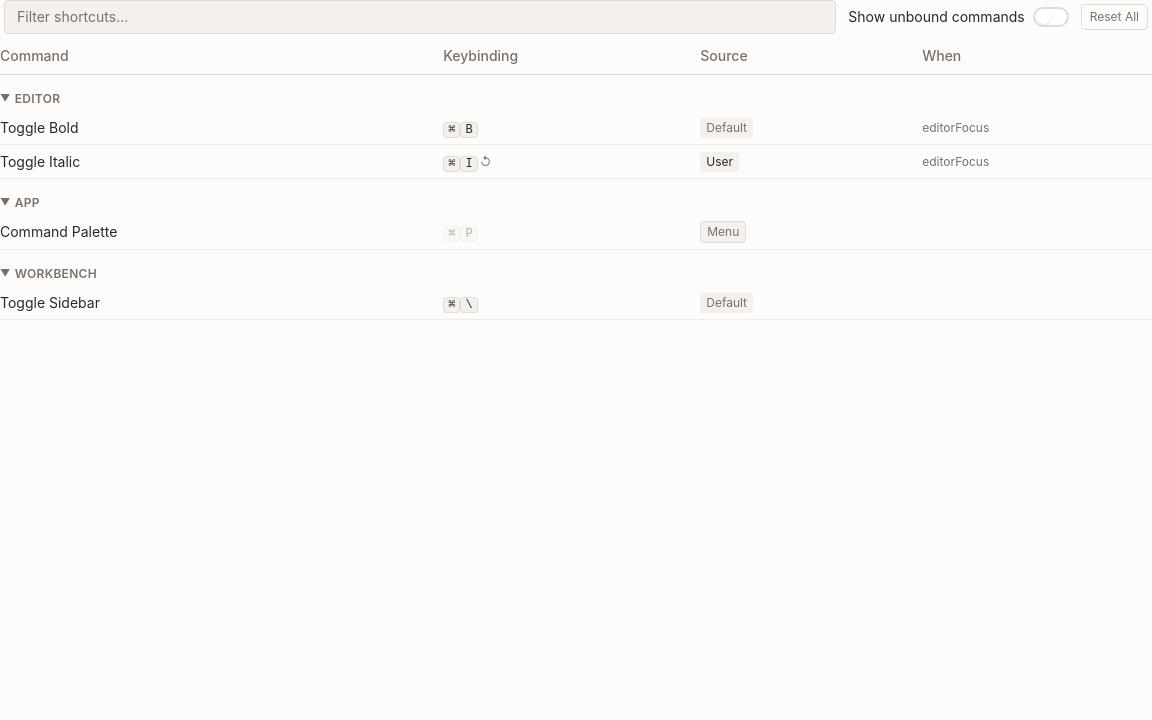
Scenario: KeyboardShortcutsPanel › Cancel dismisses dialog with no changes
Expected: the row "Toggle Italic ⌘I ↺ User editorFocus" is shown, [0,144,1151,178]
Click the element showing "⌘I". click: (460, 162)
box: [443,152,478,172]
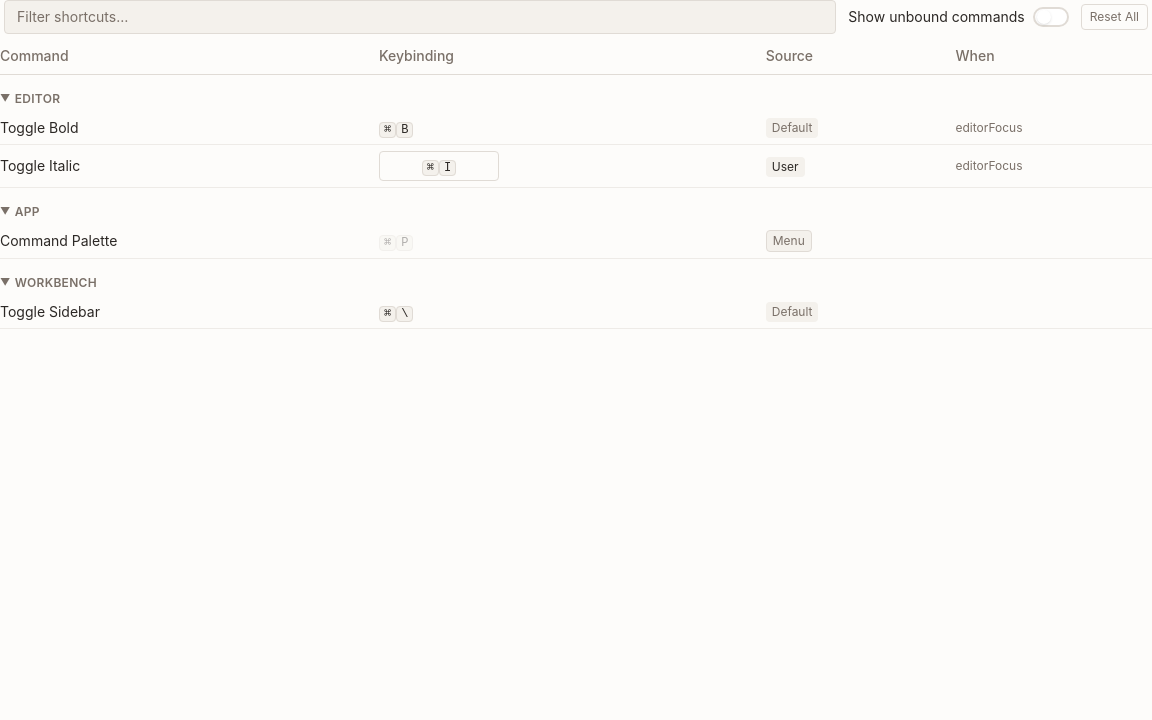
Click the element with test id "key-recorder". click: (439, 166)
box: [379,151,499,181]
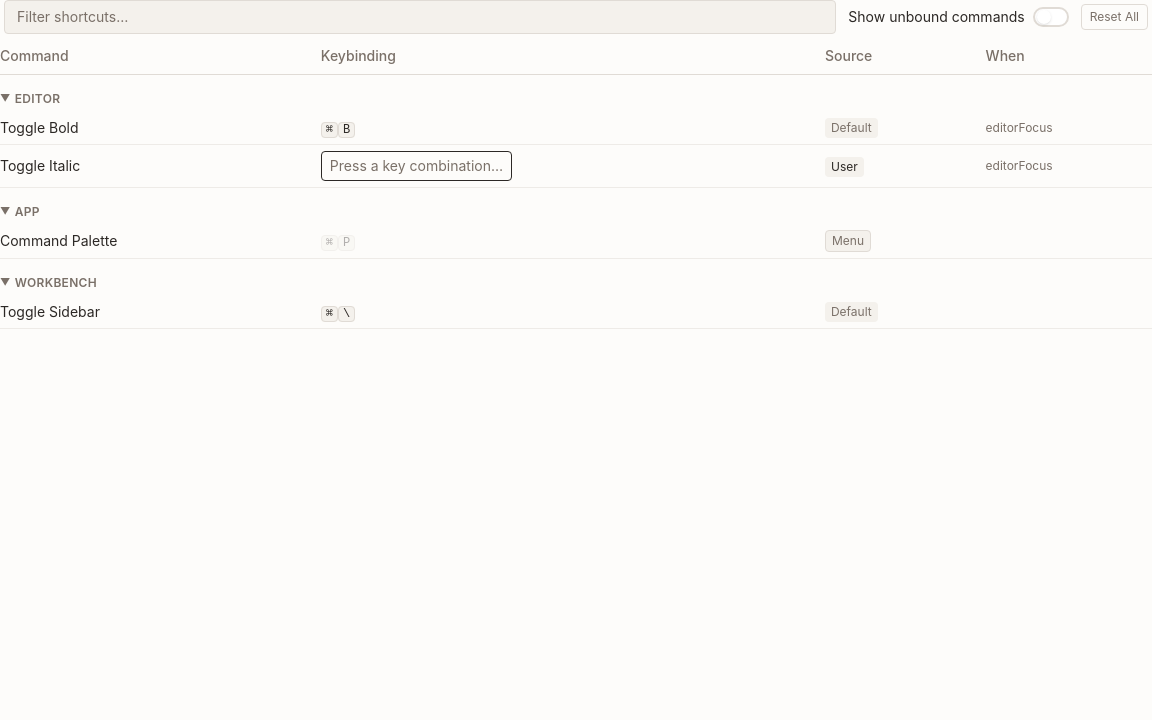
Press b in the element with test id "key-recorder", box [321,151,512,181]
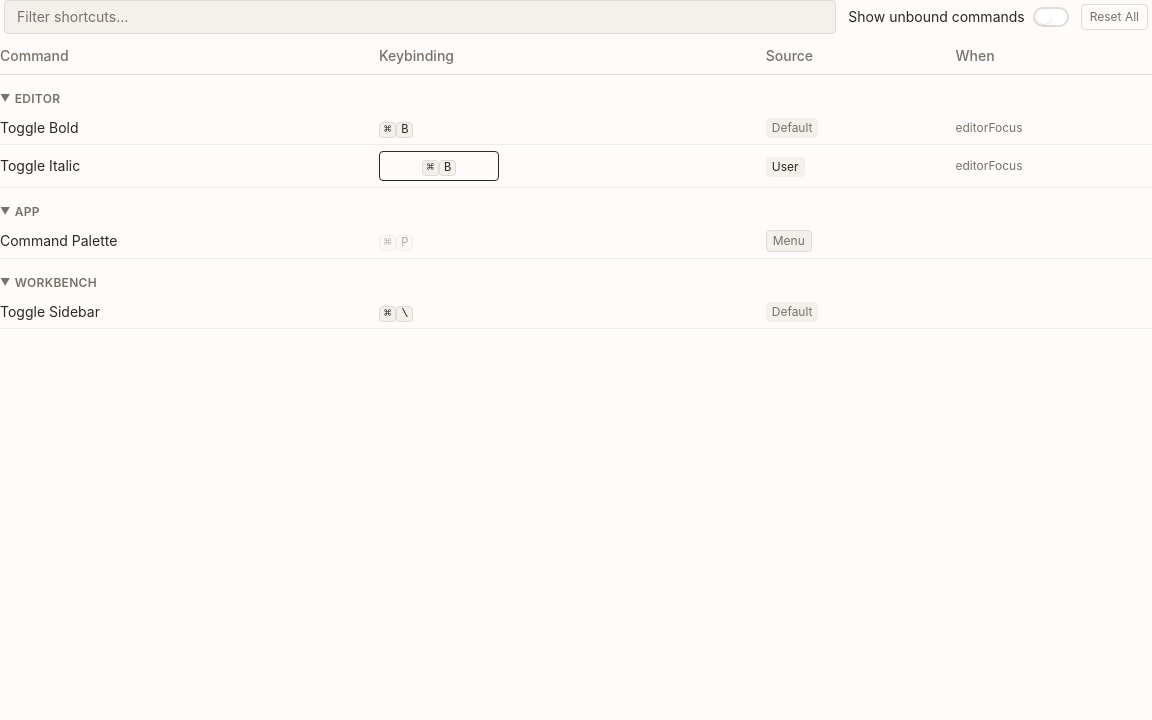
Press Enter in the element with test id "key-recorder", box [379,151,499,181]
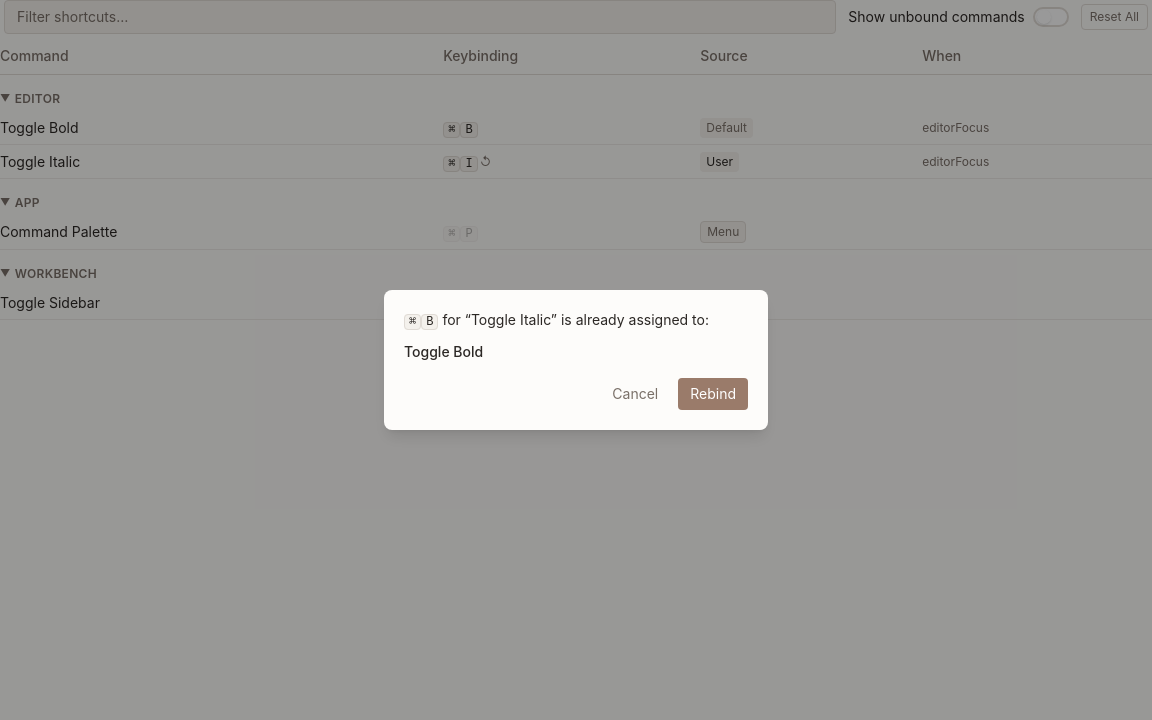
Click the button with test id "conflict-cancel-btn". click: (635, 394)
box: [600,378,670,410]
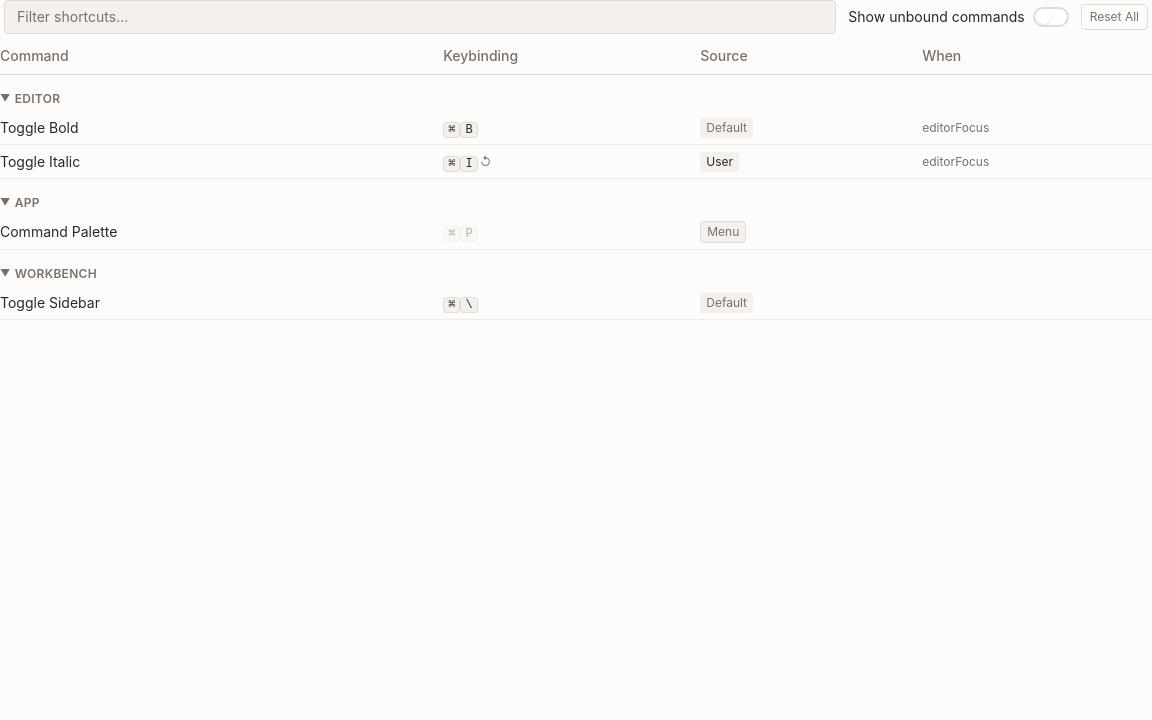
Expected: the row "Toggle Italic ⌘I ↺ User editorFocus" is shown, [0,144,1151,178]
Expected: the element with test id "conflict-dialog-backdrop" is gone
